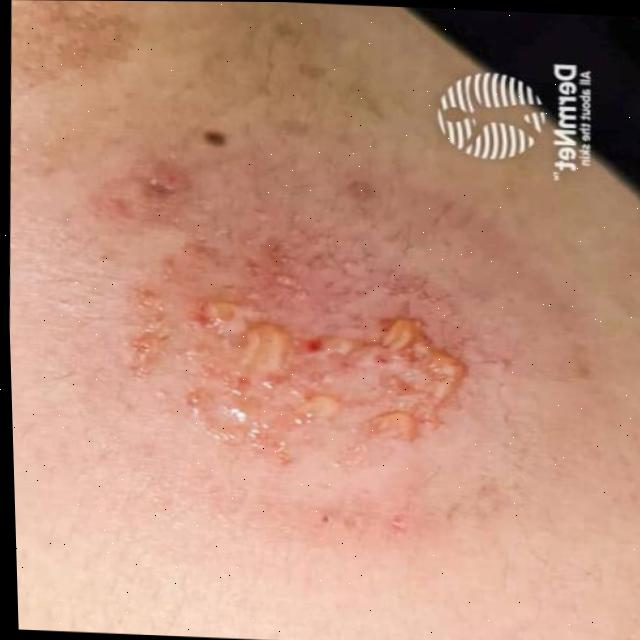Eczema: (103, 171, 459, 462)
